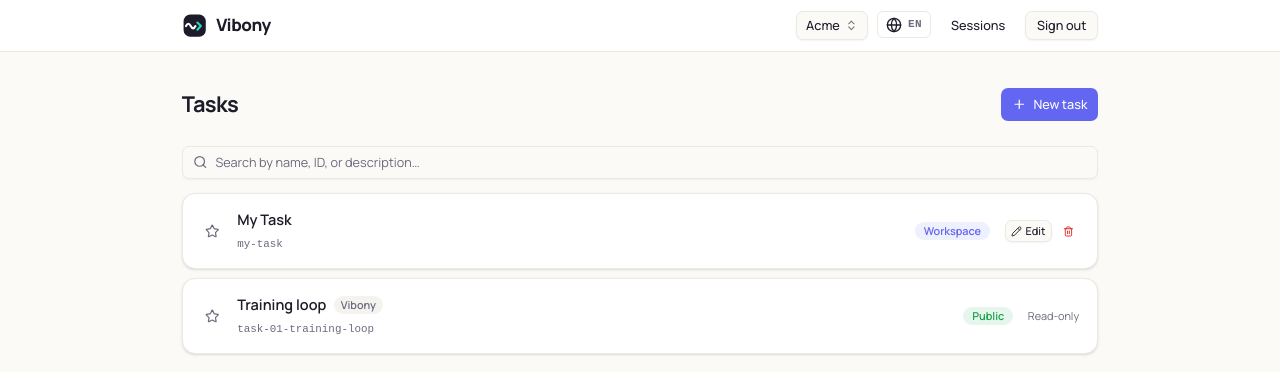
TasksPage › searches the catalog (debounced ?q=) and shows a search-empty message
Expected: the element with test id "task-row-own1" is shown, [182,193,1098,269]
Type "zephyr" into the search field with test id "tasks-search" at [640, 162], box [182,146,1098,179]
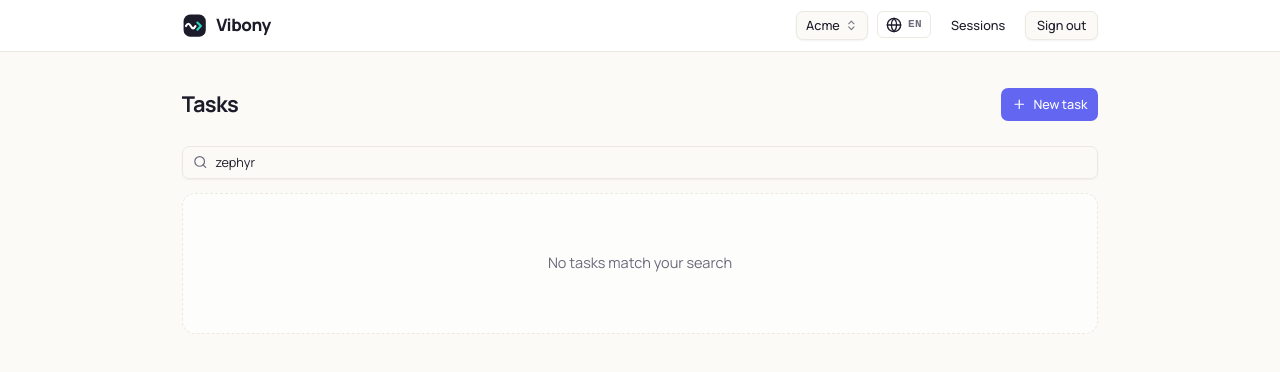
Expected: the text "No tasks match your search" is shown, [182,193,1098,334]
Expected: the text with test id "tasks-empty" reads "No tasks match your search", [548,253,732,272]
